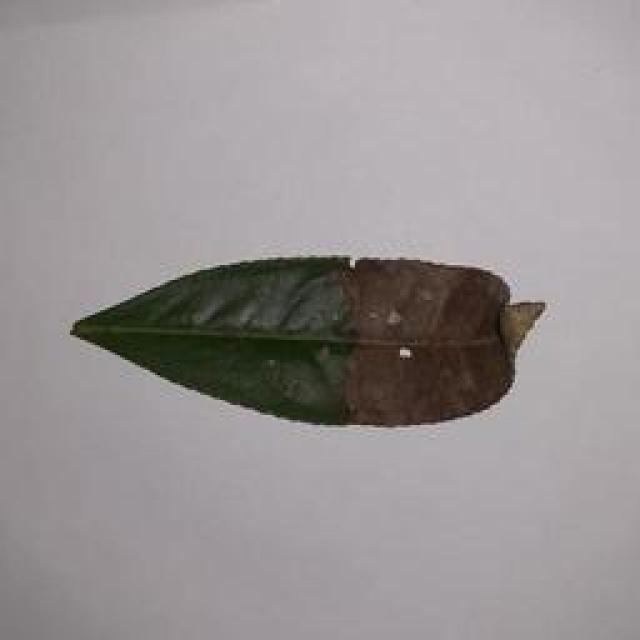Brown Blight: (58, 249, 561, 438)
